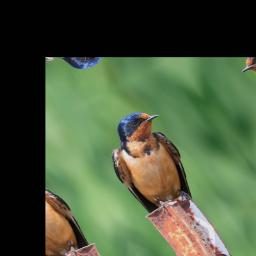Swallow: (88, 103, 215, 228)
